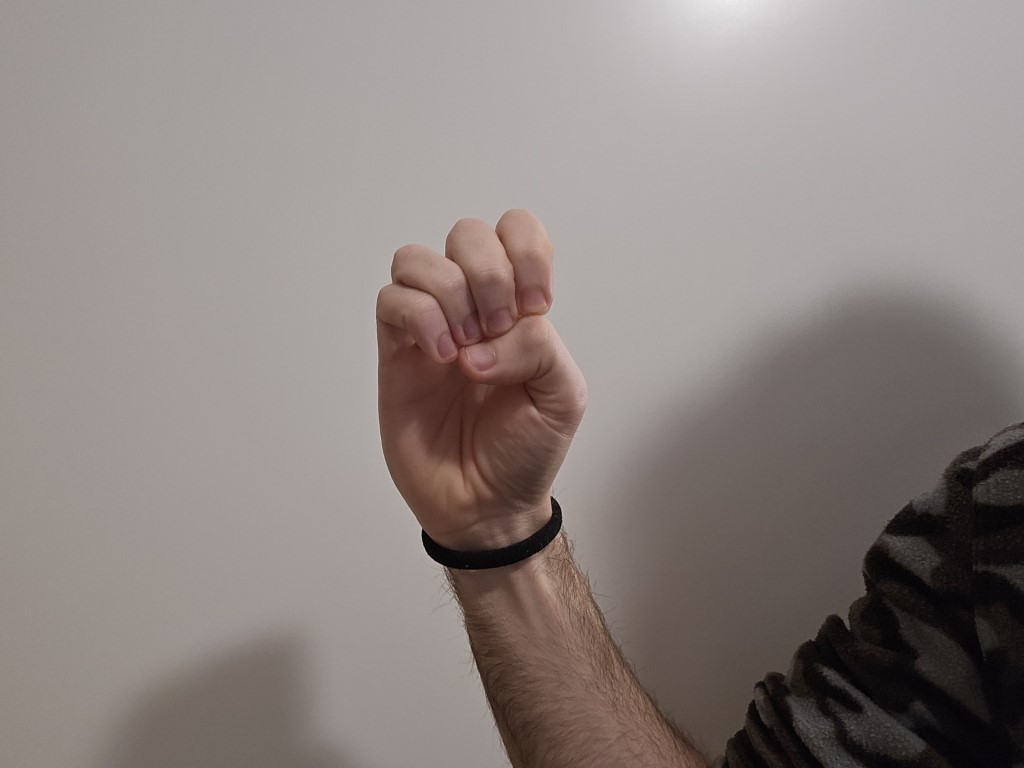e: (334, 200, 612, 532)
